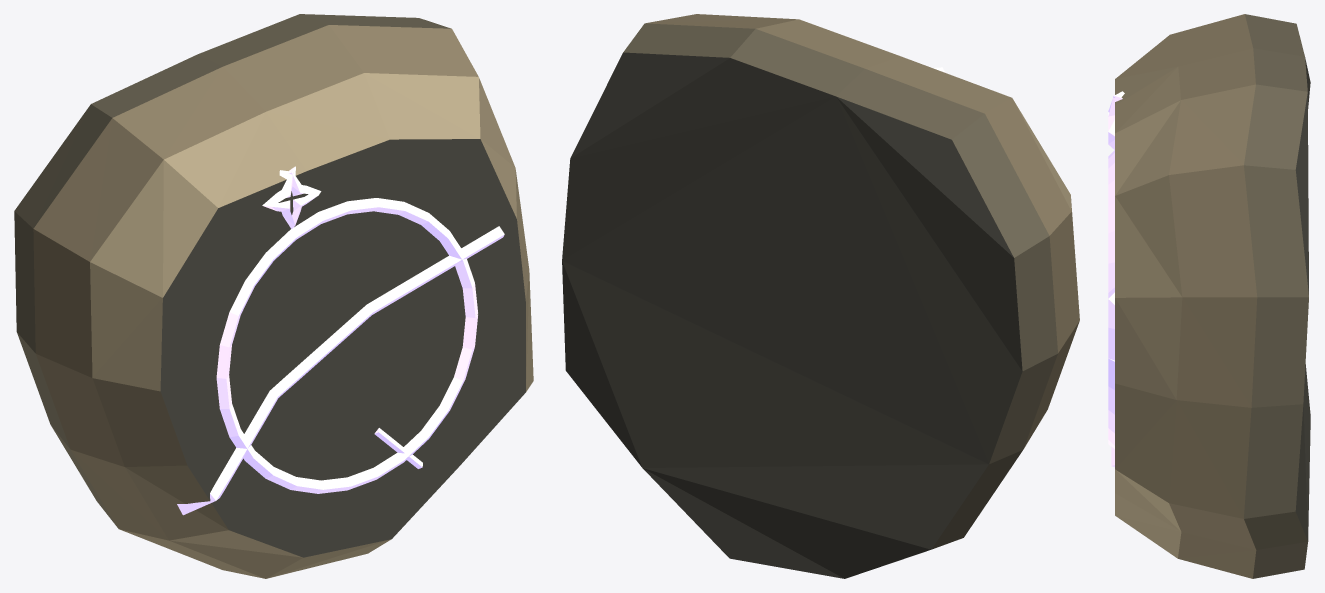
The model's file is FERNSTONE_STAR.lo.glb.
3 renders of one model, left to right at view 1: azimuth 30°, elevation 25°; view 2: azimuth 150°, elevation 25°; view 3: azimuth 270°, elevation 25°, orthographic. The views are drawn at different scales.
Parts seen in each view (by area): view 1: Body_Mesh; view 2: Body_Mesh; view 3: Body_Mesh.
Boxes of the visible parts, <box> form: Body_Mesh: <box>14,14,533,578</box>; Body_Mesh: <box>562,14,1079,578</box>; Body_Mesh: <box>1108,14,1310,578</box>.
Size of the model in its own units: 0.2711 by 0.2834 by 0.1054.
1 material, 1 textured.
